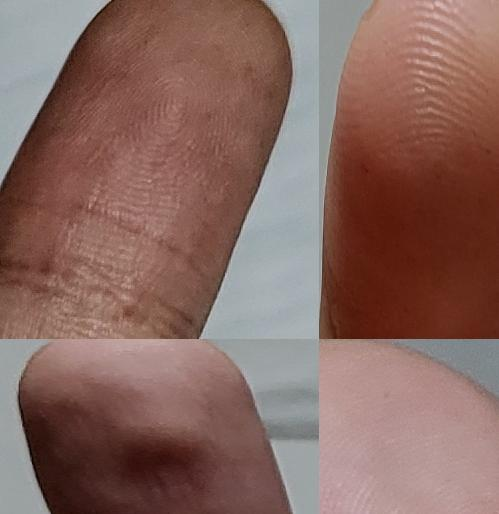Fingerprints: (0, 0, 293, 336), (322, 0, 499, 339), (18, 339, 295, 514), (319, 339, 499, 514)
